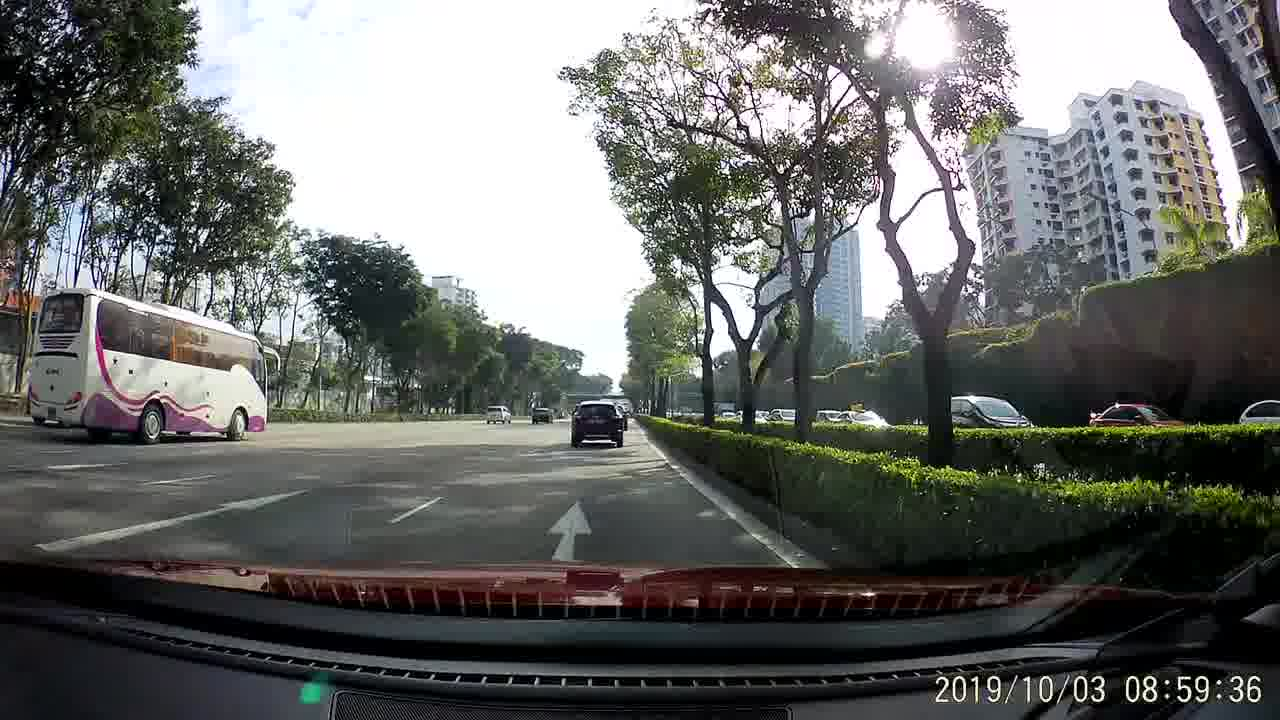bus: (21, 284, 283, 443)
car: (949, 395, 1038, 430), (571, 397, 623, 451), (1089, 397, 1186, 425), (832, 399, 894, 428), (1237, 395, 1279, 424), (482, 401, 515, 427), (767, 406, 797, 424), (531, 405, 556, 426), (814, 406, 843, 422)
